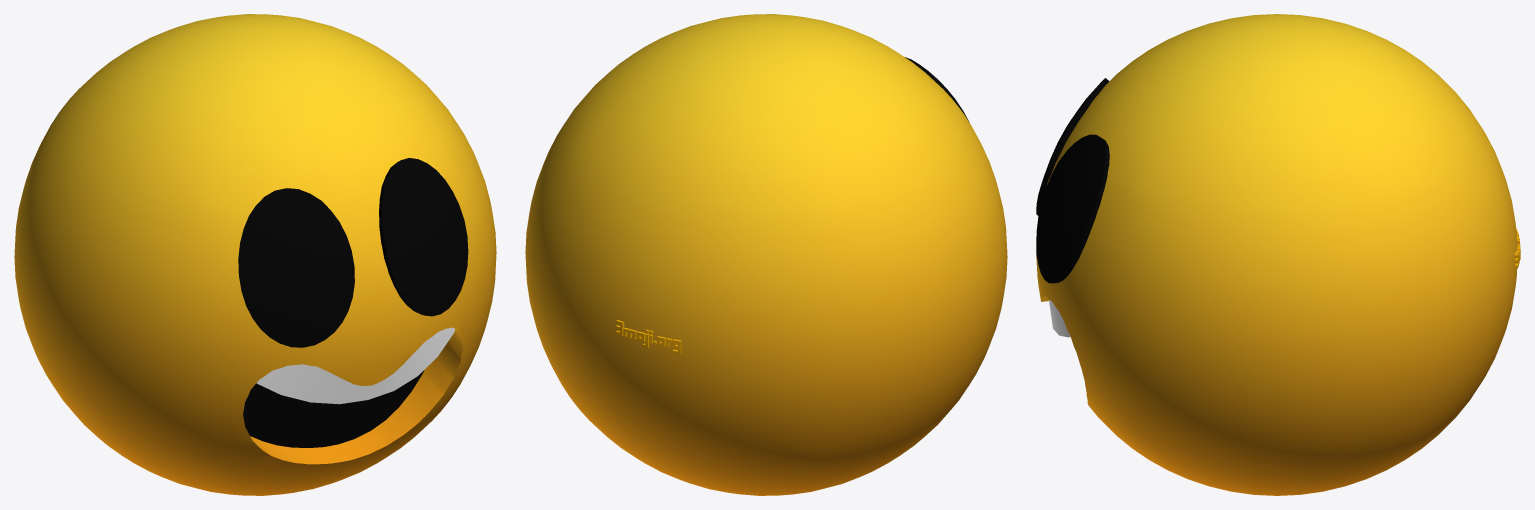
Rendered from grinning_face_with_big_eyes.glb.
3 renders of one model, left to right at view 1: azimuth 30°, elevation 25°; view 2: azimuth 150°, elevation 25°; view 3: azimuth 270°, elevation 25°, orthographic.
Parts seen in each view (by area): view 1: Grinning Face with Big Eyes; view 2: Grinning Face with Big Eyes; view 3: Grinning Face with Big Eyes.
Part boxes in pixels (left/top/right/bottom): Grinning Face with Big Eyes: left=14, top=14, right=496, bottom=495; Grinning Face with Big Eyes: left=525, top=14, right=1007, bottom=495; Grinning Face with Big Eyes: left=1036, top=14, right=1520, bottom=495.
Size of the model in its own units: 1.69 by 1.69 by 1.7.
1 material, 1 textured.
